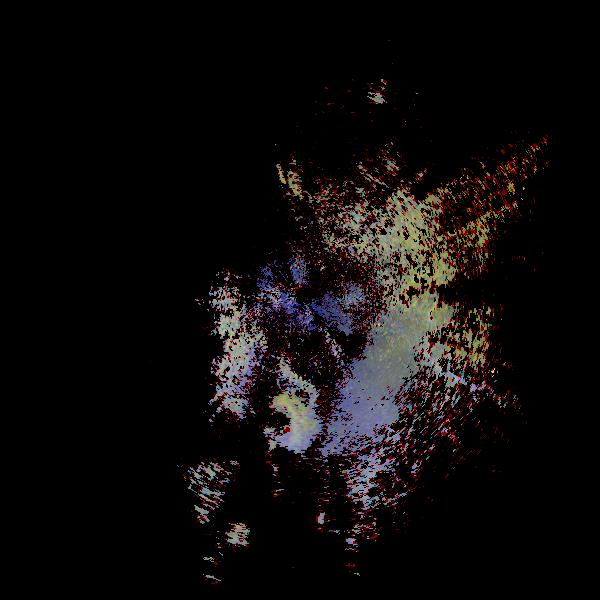roost: (254, 393, 314, 453)
